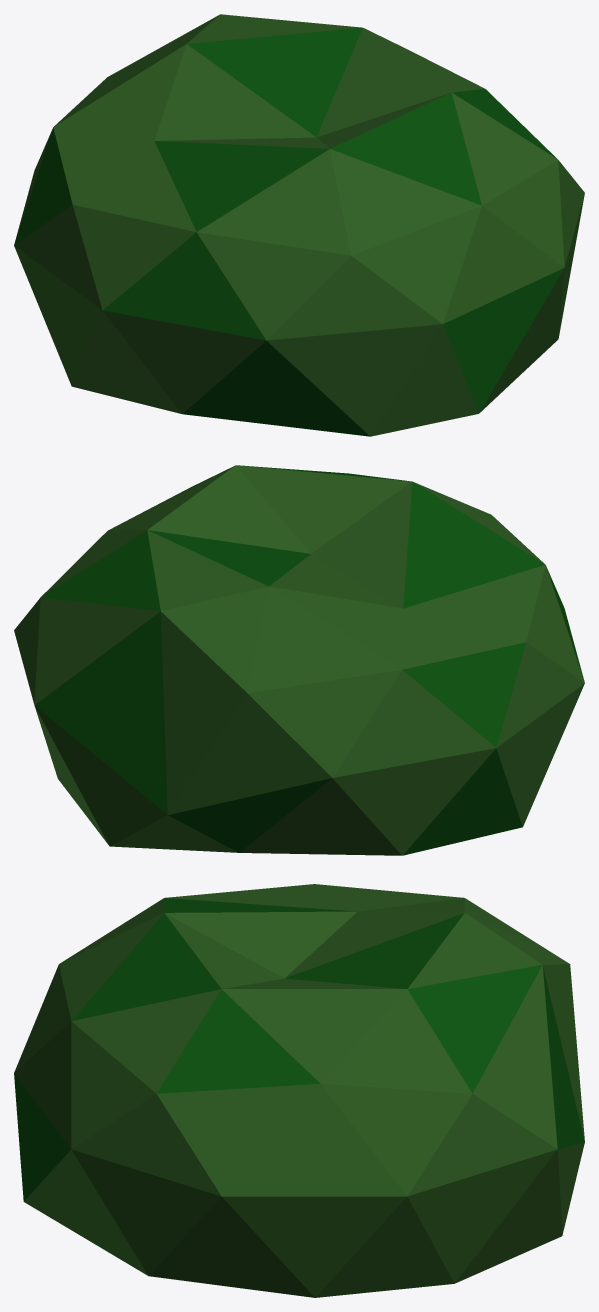
The model's file is DefaultKust.fbx.
3 views of the same model, one above another, from view 1: azimuth 30°, elevation 25°; view 2: azimuth 150°, elevation 25°; view 3: azimuth 270°, elevation 25° (orthographic). The views are drawn at different scales.
Visible parts, largest first — view 1: Kust.001, Kust.002; view 2: Kust.001, Kust.002; view 3: Kust.001, Kust.002.
Part boxes in pixels (x1=…): Kust.001: x1=14, y1=14, x2=584, y2=436; Kust.002: x1=14, y1=27, x2=564, y2=436; Kust.001: x1=14, y1=465, x2=584, y2=855; Kust.002: x1=34, y1=465, x2=584, y2=855; Kust.001: x1=14, y1=884, x2=584, y2=1297; Kust.002: x1=14, y1=898, x2=584, y2=1201.
Size of the model in its own units: 31.72 by 18.16 by 31.03.
